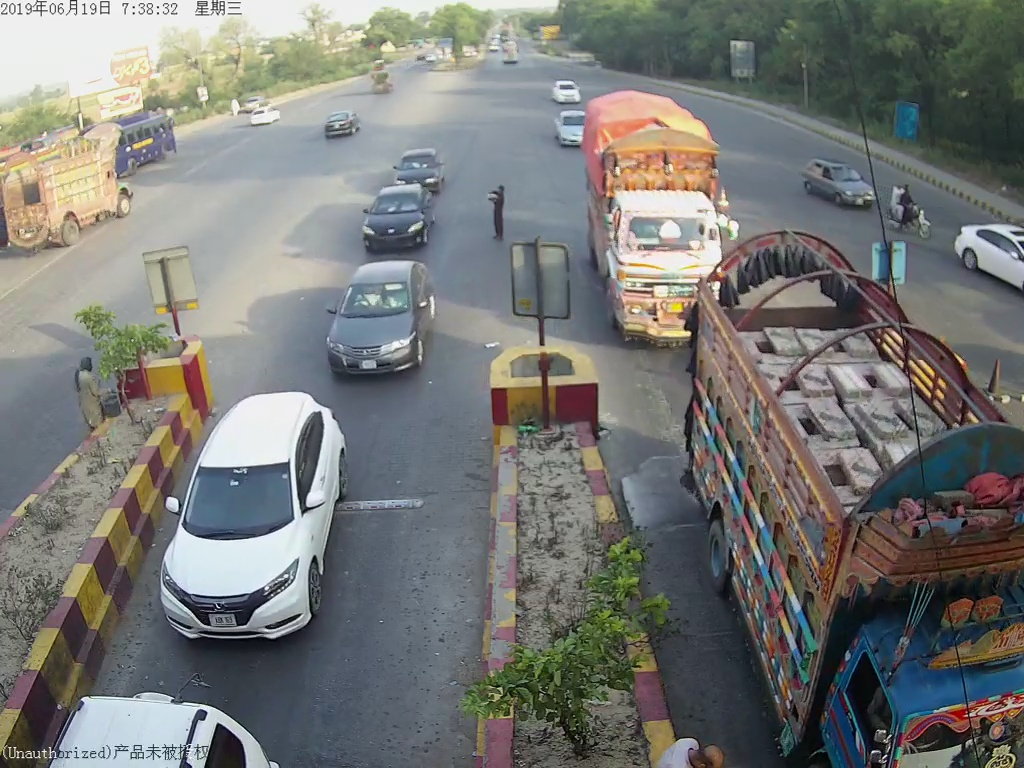Cat-1: (158, 395, 347, 643), (326, 254, 436, 380), (358, 183, 436, 252), (800, 149, 881, 213), (390, 146, 448, 191), (548, 105, 585, 141)
Cat-4: (704, 262, 1018, 766), (586, 98, 724, 345)
